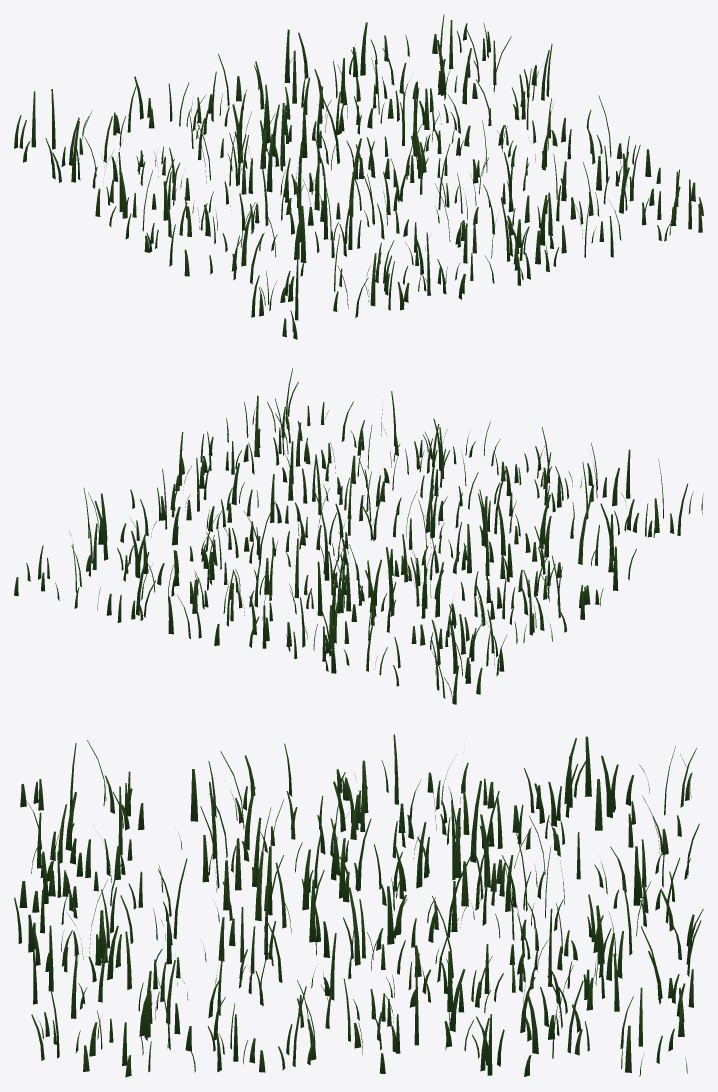
Rendered from Turf_Shade_v0.glb.
3 renders of one model, top to bottom at view 1: azimuth 30°, elevation 25°; view 2: azimuth 150°, elevation 25°; view 3: azimuth 270°, elevation 25°, orthographic. The views are drawn at different scales.
Visible parts, largest first — view 1: Turf_Shade_v0; view 2: Turf_Shade_v0; view 3: Turf_Shade_v0.
Boxes of the visible parts, <box> form: Turf_Shade_v0: <box>14,14,703,339</box>; Turf_Shade_v0: <box>14,368,703,704</box>; Turf_Shade_v0: <box>14,734,703,1077</box>.
Size of the model in its own units: 1.23 by 0.1582 by 1.25.
